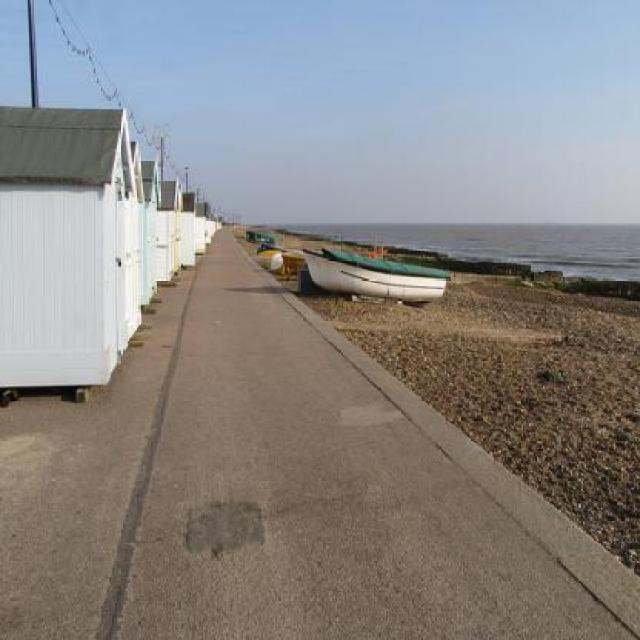ship: (301, 241, 448, 307)
